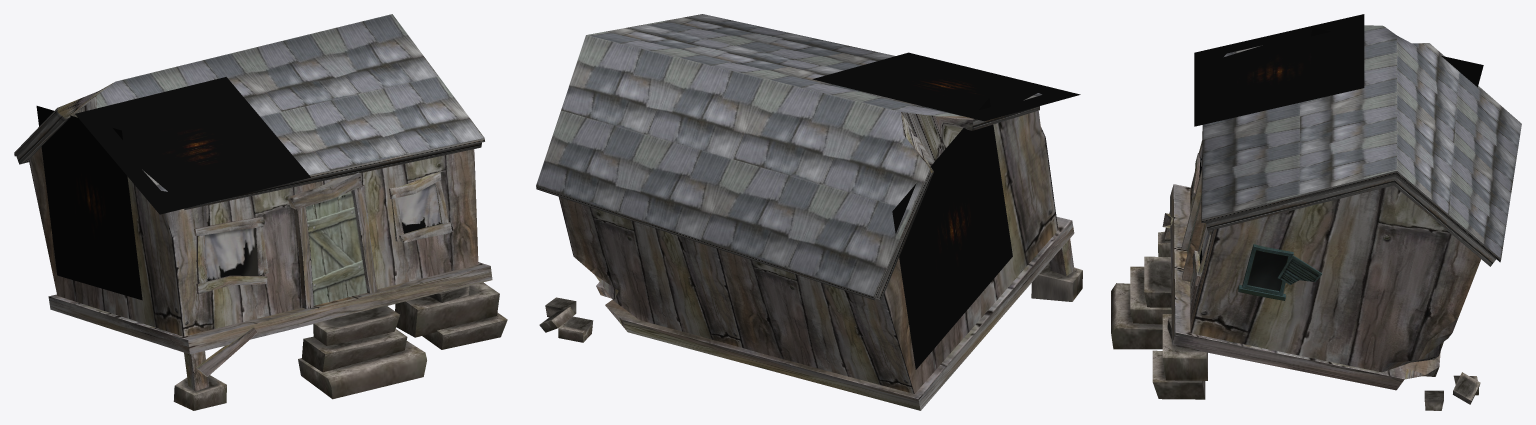
The model's file is pir_m_bld_shn_houseI_destroyed.fbx.
3 views of the same model, side by side, from view 1: azimuth 30°, elevation 25°; view 2: azimuth 150°, elevation 25°; view 3: azimuth 270°, elevation 25° (orthographic). The views are drawn at different scales.
Visible parts, largest first — view 1: house_geo, pPlane1, pPlane2, platform, polySurface3, stair1, pasted__stair9, stair2, curtain1, stair3, pasted__stair11, group1 (+12 smaller); view 2: house_geo, pPlane2, platform, pPlane1, atone, stone5, post; view 3: house_geo, pPlane1, platform, stair1, pasted__stair9, stair3, pasted__stair11, stair2, Glass, woodFrame, shutter, wood13 (+4 smaller).
Boxes of the visible parts, <box> form: house_geo: <box>14,14,484,336</box>; pPlane1: <box>75,77,310,214</box>; pPlane2: <box>36,106,142,300</box>; platform: <box>48,262,492,354</box>; polySurface3: <box>306,193,367,305</box>; stair1: <box>298,341,426,399</box>; pasted__stair9: <box>395,282,499,337</box>; stair2: <box>302,329,407,372</box>; curtain1: <box>204,228,261,280</box>; stair3: <box>313,305,399,345</box>; pasted__stair11: <box>422,312,507,349</box>; group1: <box>397,183,441,233</box>; house_geo: <box>536,14,1058,393</box>; pPlane2: <box>892,98,1012,369</box>; platform: <box>596,217,1074,410</box>; pPlane1: <box>812,52,1080,121</box>; atone: <box>1031,263,1082,301</box>; stone5: <box>558,316,593,342</box>; post: <box>1049,238,1074,275</box>; house_geo: <box>1190,25,1521,372</box>; pPlane1: <box>1194,14,1364,126</box>; platform: <box>1170,184,1440,390</box>; stair1: <box>1111,283,1162,349</box>; pasted__stair9: <box>1162,314,1207,380</box>; stair3: <box>1144,256,1171,307</box>; pasted__stair11: <box>1152,350,1205,399</box>; stair2: <box>1130,266,1171,324</box>; Glass: <box>1247,250,1287,290</box>; woodFrame: <box>1238,244,1293,300</box>; shutter: <box>1277,255,1322,284</box>; wood13: <box>1182,197,1204,281</box>.
Size of the model in its own units: 2753 by 1788 by 2826.
Materials: 4 (4 with a texture image).
